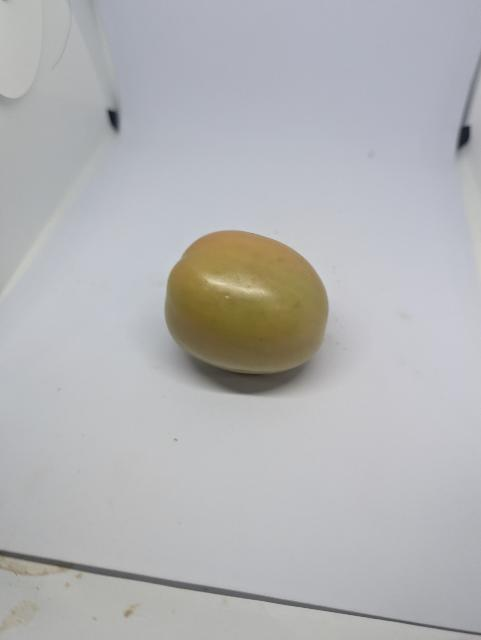breaker: (165, 231, 329, 373)
